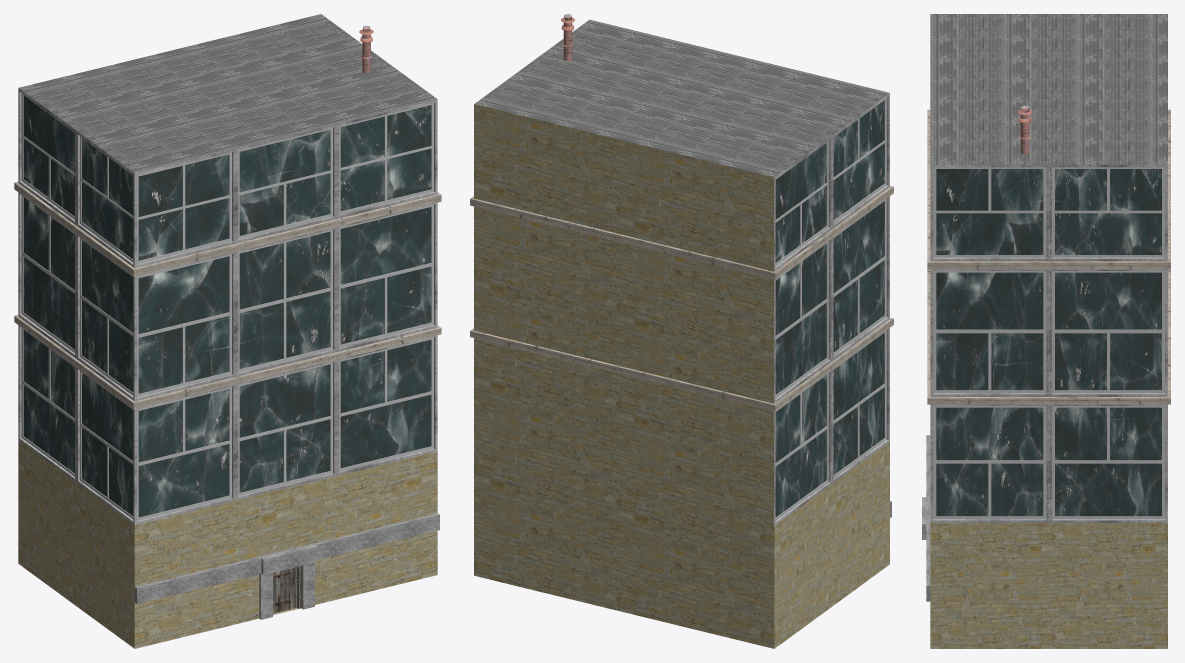
File: Office&Chimney.fbx
3 views of the same model, side by side, from view 1: azimuth 30°, elevation 25°; view 2: azimuth 150°, elevation 25°; view 3: azimuth 270°, elevation 25° (orthographic). The views are drawn at different scales.
Parts seen in each view (by area): view 1: Walls; view 2: Walls; view 3: Walls, Cylinder002.
Boxes of the visible parts, box(x1,y1,x2,y2) form: Walls: box(14, 14, 441, 648); Walls: box(470, 19, 893, 648); Walls: box(922, 14, 1170, 648); Cylinder002: box(1017, 105, 1032, 153).
Bounding box in the file's own units: 61 × 98.31 × 41.9.
